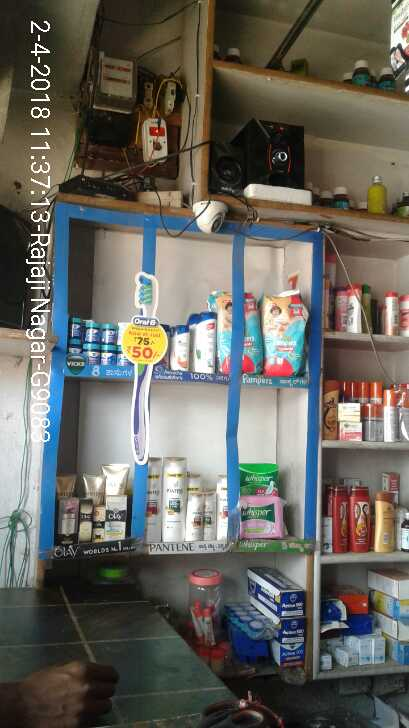vicks: (68, 317, 134, 368)
